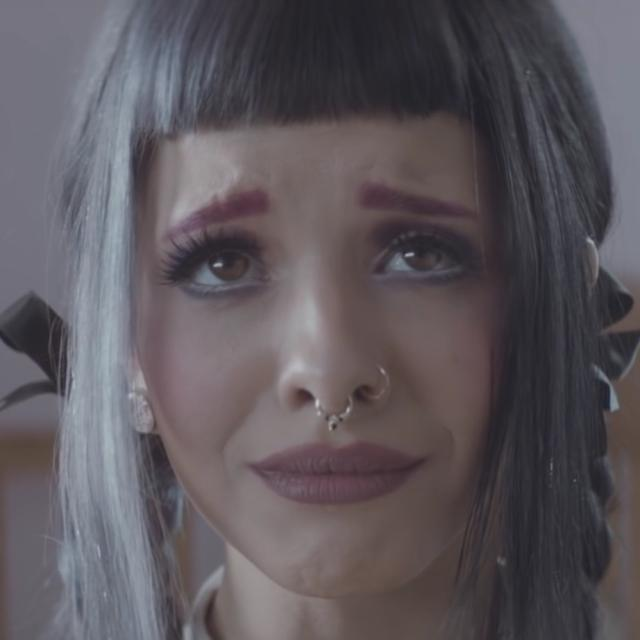Depress: (138, 114, 511, 598)
